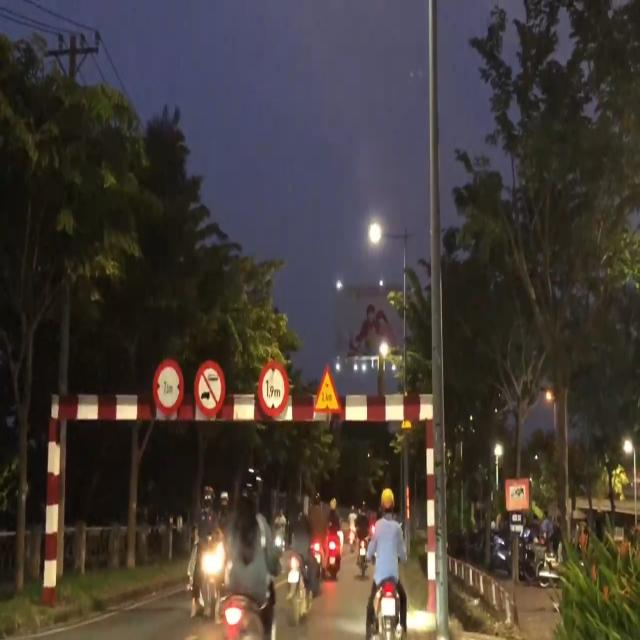Bien bao cam xe oto khach va xe oto tai: (193, 355, 227, 420)
Bien bao chieu cao tinh khong thuc te: (312, 363, 338, 418)
Bien bao han che chieu cao: (256, 359, 289, 415)
